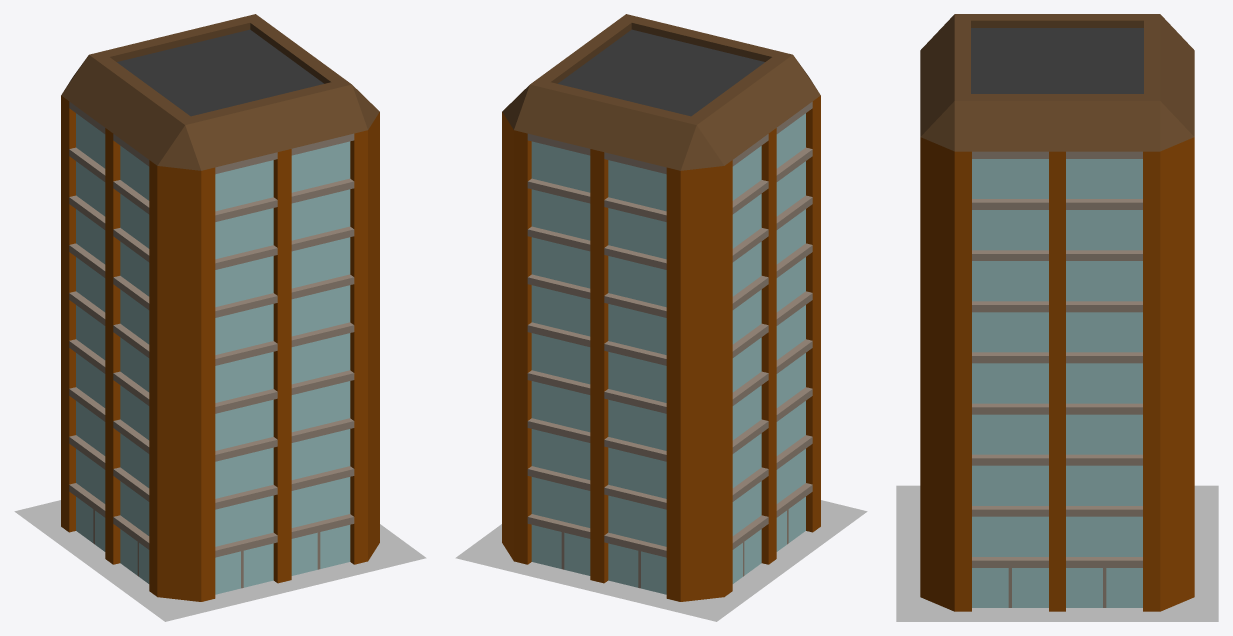
Rendered from building1-4.dae.
3 renders of one model, left to right at view 1: azimuth 30°, elevation 25°; view 2: azimuth 150°, elevation 25°; view 3: azimuth 270°, elevation 25°, orthographic. The views are drawn at different scales.
Parts seen in each view (by area): view 1: SketchUp (×65); view 2: SketchUp (×65); view 3: SketchUp (×45).
Part boxes in pixels (x1,y1,x2,y2): SketchUp (×65): (14,14,426,621); SketchUp (×65): (455,14,867,621); SketchUp (×45): (896,14,1218,621).
Bounding box in the file's own units: 39.37 × 39.37 × 66.89.
